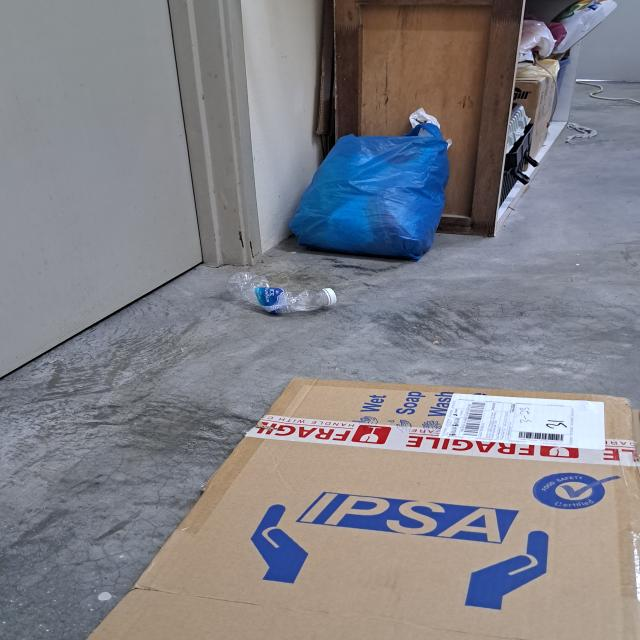plastic bag: (289, 129, 451, 262)
plastic bottle: (228, 270, 340, 319)
plastic bottle cap: (320, 284, 341, 310)
